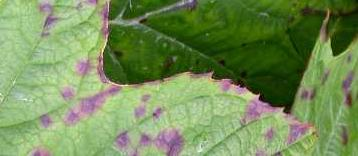Tomato leaf bacterial spot: (0, 0, 322, 156)
